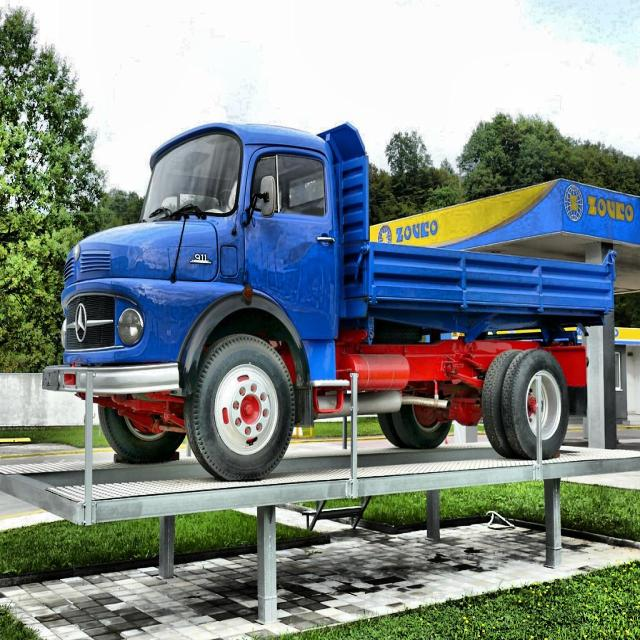dump_truck: (31, 110, 618, 493)
